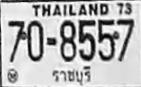0: (26, 20, 43, 60)
5: (97, 18, 118, 60), (78, 19, 95, 60)
7: (7, 19, 25, 62), (116, 18, 133, 61)
8: (60, 19, 76, 61)
RBR: (50, 65, 94, 86)
